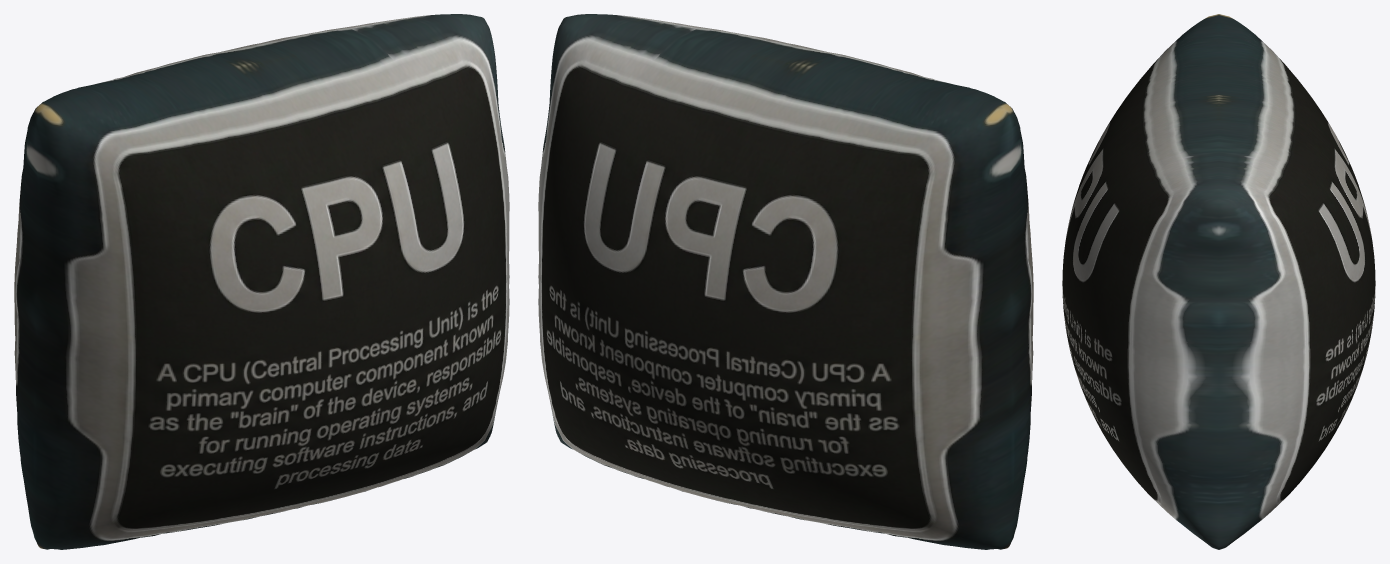
File: cpu.glb
3 renders of one model, left to right at view 1: azimuth 30°, elevation 25°; view 2: azimuth 150°, elevation 25°; view 3: azimuth 270°, elevation 25°, orthographic. The views are drawn at different scales.
Bounding box in the file's own units: 4.26 × 3.97 × 3.09.
1 material, 1 textured.
